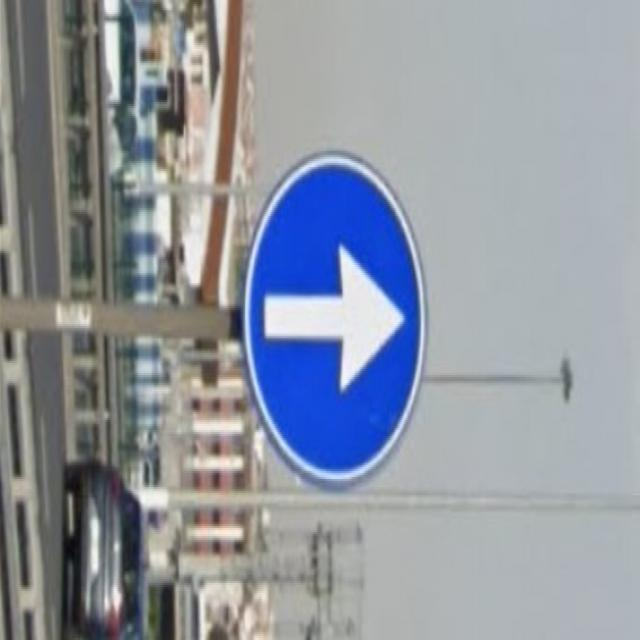Turn Right: (251, 147, 418, 467)
